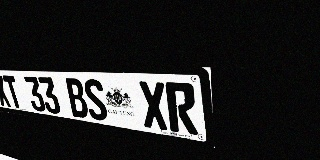3: (37, 77, 62, 115), (24, 76, 47, 112)
B: (64, 78, 90, 119)
R: (165, 82, 198, 135)
S: (82, 79, 109, 122)
T: (2, 75, 24, 109)
X: (138, 81, 169, 131), (0, 75, 12, 107)
